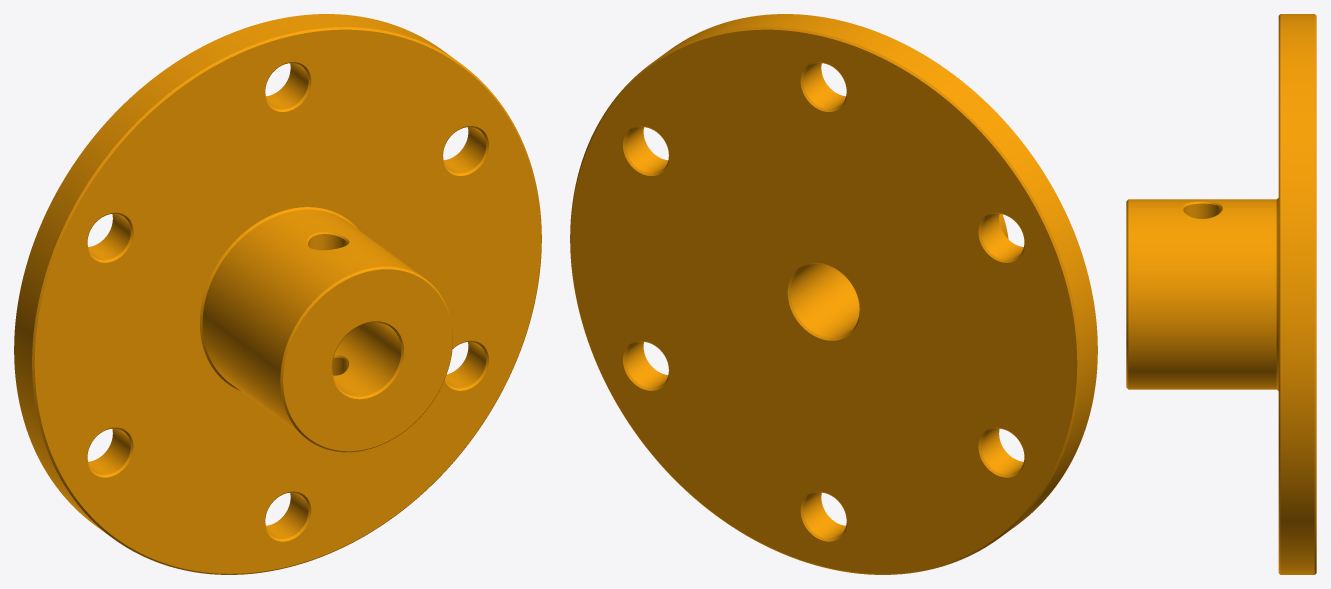
Rendered from wrist_3.obj.
3 views of the same model, side by side, from view 1: azimuth 30°, elevation 25°; view 2: azimuth 150°, elevation 25°; view 3: azimuth 270°, elevation 25° (orthographic). The views are drawn at different scales.
Visible parts, largest first — view 1: Body1; view 2: Body1; view 3: Body1.
Boxes of the visible parts, bbox=[...] form: Body1: bbox=[14, 14, 541, 574]; Body1: bbox=[570, 14, 1097, 574]; Body1: bbox=[1126, 14, 1316, 574].
Size of the model in its own units: 59 by 59 by 20.
